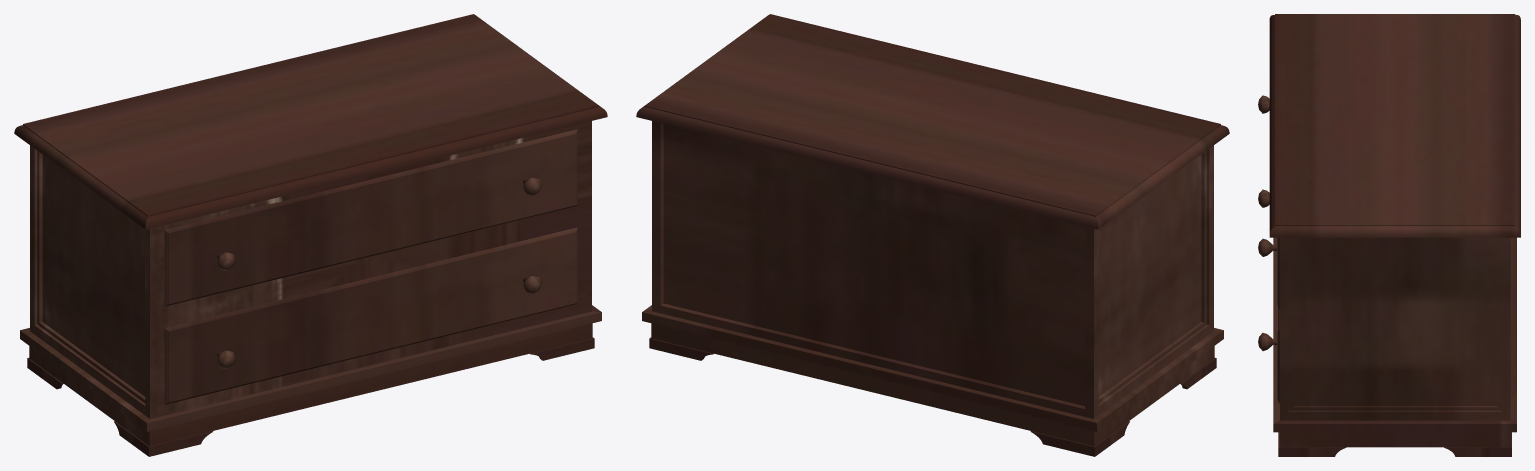
Rendered from ChestOfDrawersActSmall 1.fbx.
3 views of the same model, side by side, from view 1: azimuth 30°, elevation 25°; view 2: azimuth 150°, elevation 25°; view 3: azimuth 270°, elevation 25° (orthographic). The views are drawn at different scales.
Parts seen in each view (by area): view 1: Mueble base.002; view 2: Mueble base.002; view 3: Mueble base.002.
Part boxes in pixels (left/top/right/bottom): Mueble base.002: left=14, top=14, right=607, bottom=456; Mueble base.002: left=636, top=14, right=1229, bottom=456; Mueble base.002: left=1258, top=14, right=1520, bottom=456.
Bounding box in the file's own units: 243 × 122 × 125.
